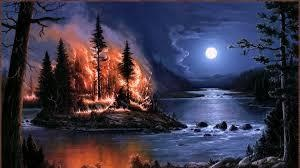fire: (52, 32, 152, 115)
